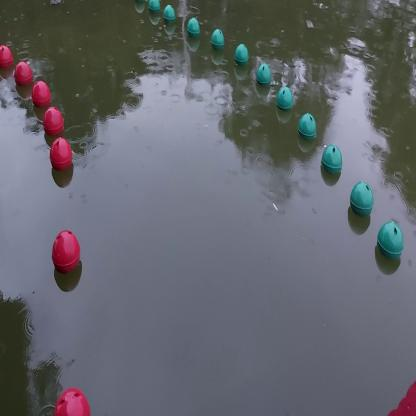green_buoy: (376, 220, 404, 266), (348, 177, 372, 228), (319, 140, 345, 184), (295, 112, 319, 146), (254, 60, 272, 93), (276, 83, 292, 116), (209, 25, 225, 57), (234, 41, 249, 72), (186, 18, 201, 45), (164, 3, 176, 30), (148, 0, 162, 18)
red_buoy: (49, 223, 83, 283), (51, 388, 93, 416), (49, 141, 74, 178), (43, 105, 66, 142), (32, 79, 52, 110), (14, 61, 33, 89), (0, 41, 14, 75)
